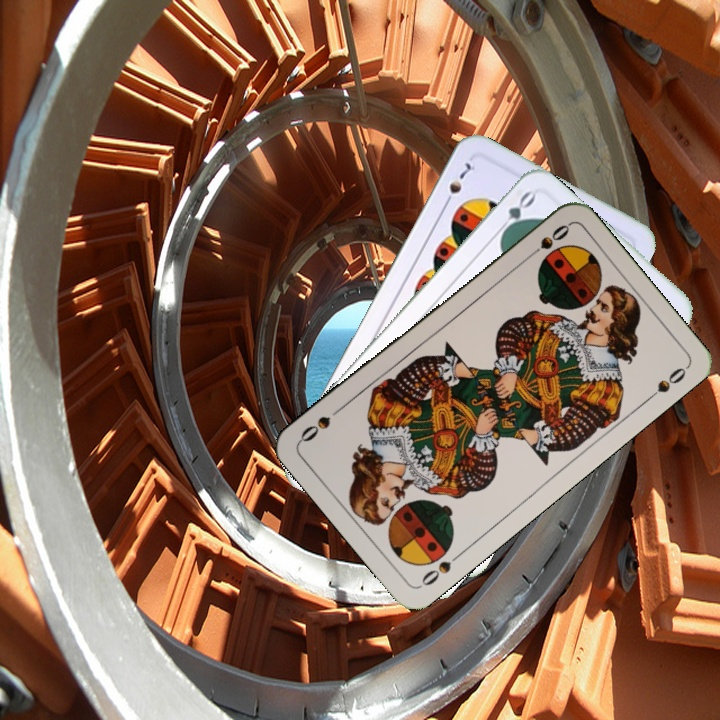GO: (492, 187, 539, 241)
S7: (439, 158, 478, 210)
SO: (416, 547, 465, 590), (522, 220, 572, 262)
